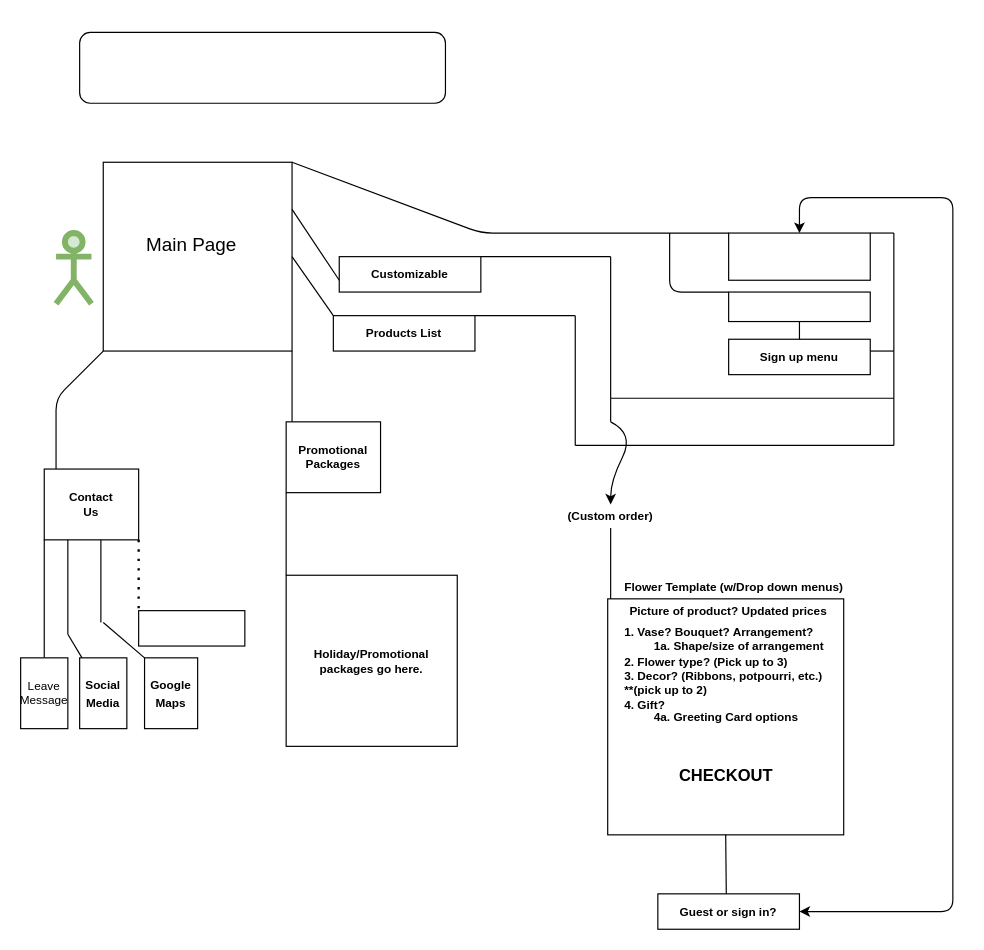
Some shapes in this 984 by 950 pixel diagram are drawn without their labels. Each missing label, with the box of its shape:
Actor: (53, 230, 94, 306)
Crud Messages: (137, 609, 245, 646)
Customer Sign-in: (727, 232, 870, 280)
Dotted LInes = Admin capabilities Solid Lines = User/Customer capabilities: (78, 31, 445, 103)
Guest User? Sign Up?: (727, 291, 870, 322)
